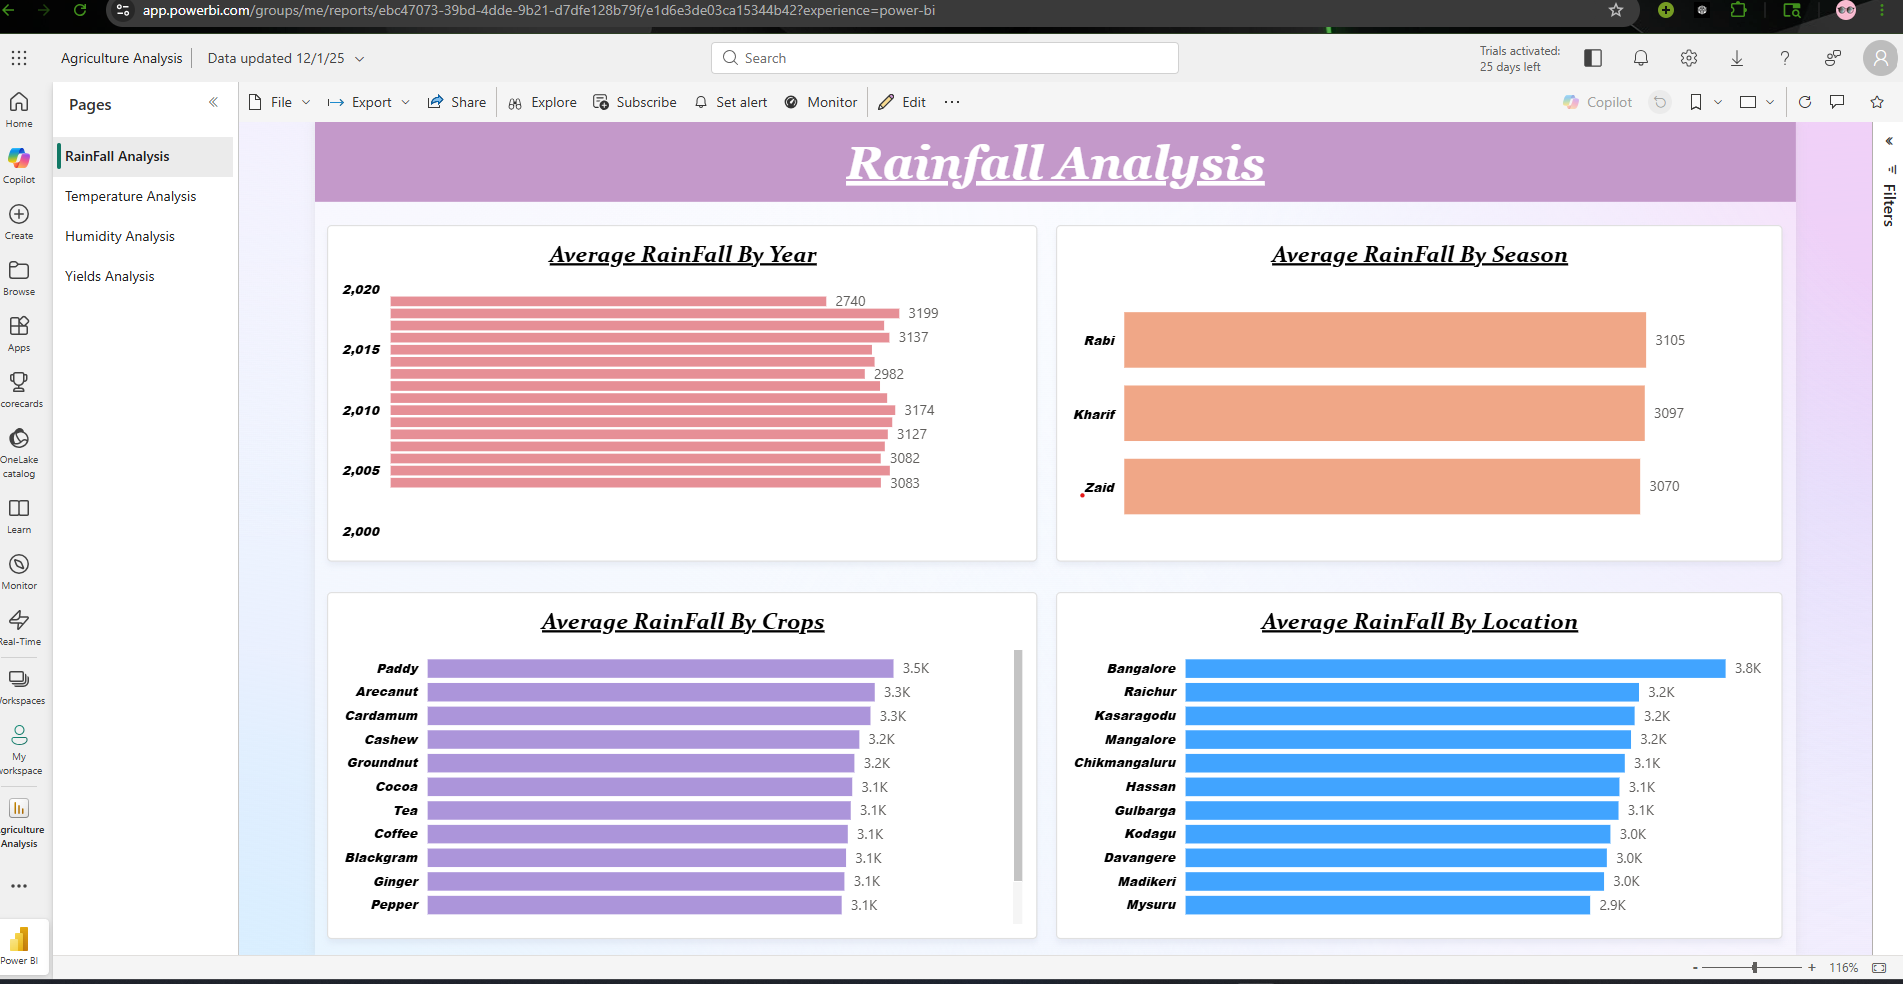

The dashboard page shown, as its layout file describes it:
{"tool":"powerbi","page":{"name":"RainFall Analysis ","canvas":[1280,720],"ordinal":0},"visuals":[{"type":"shape","box":[0,0,1280,69.1],"z":0},{"type":"barChart","title":"Average RainFall By Year","fields":{"Category":["AGRICULTURE.YEAR"],"Y":["Avg(AGRICULTURE.RAINFALL)"]},"box":[10,88.9,613.9,291.1],"z":1000},{"type":"barChart","title":"Average RainFall By Season","fields":{"Category":["AGRICULTURE.SEASON"],"Y":["Avg(AGRICULTURE.RAINFALL)"]},"box":[640.2,88.9,627.5,291.1],"z":2000},{"type":"barChart","title":"Average RainFall By Crops","fields":{"Category":["AGRICULTURE.CROPS"],"Y":["Avg(AGRICULTURE.RAINFALL)"]},"box":[10,406.2,613.9,300.2],"z":3000},{"type":"barChart","title":"Average RainFall By Location","fields":{"Category":["AGRICULTURE.LOCATION"],"Y":["Avg(AGRICULTURE.RAINFALL)"]},"box":[640.2,406.2,627.5,300.2],"z":4000}]}

Visuals, with their boxes on the page's 1280x720 design canvas (x1, y1, x2, y2). These are canvas units, not pixel positions in the 1903x984 screenshot, which may show the page scaled, cropped or inside an application window:
shape: x1=0 y1=0 x2=1280 y2=69
"Average RainFall By Year" barChart: x1=10 y1=89 x2=624 y2=380
"Average RainFall By Season" barChart: x1=640 y1=89 x2=1268 y2=380
"Average RainFall By Crops" barChart: x1=10 y1=406 x2=624 y2=706
"Average RainFall By Location" barChart: x1=640 y1=406 x2=1268 y2=706
